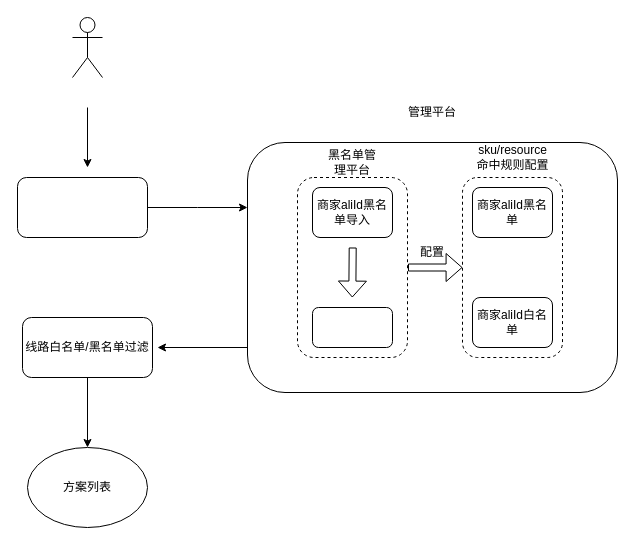
The diagram is 635 pixels wide and 545 high, and some of its shapes have lost their labels. The shapes that lost their labels are listed below. From the top down, each one's box as (x1, y1, x2, y2) in pixels, then its label:
(72, 16, 102, 78): Actor
(16, 176, 148, 238): 方案查询
(312, 306, 392, 348): 生效
